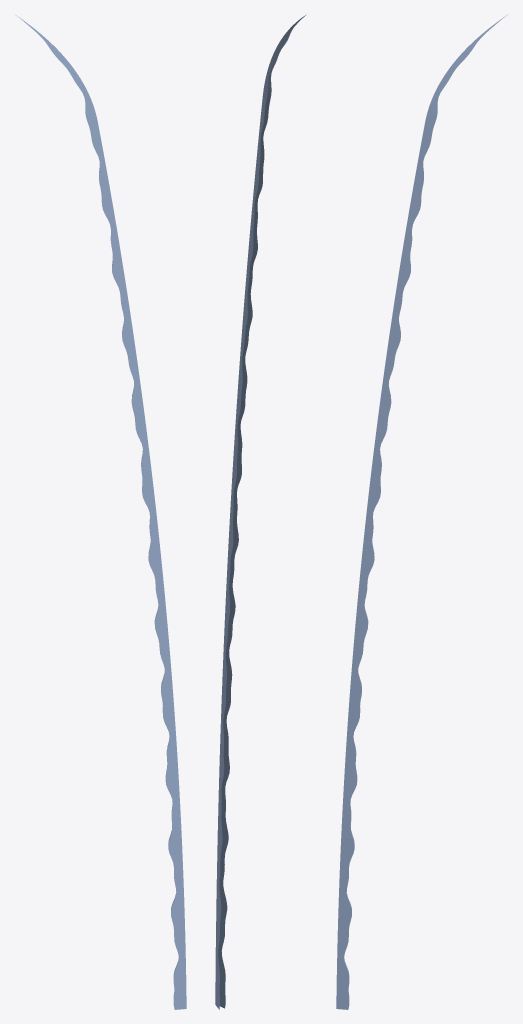
Rendered from Hamon.obj.
3 views of the same model, side by side, from view 1: azimuth 90°, elevation 25°; view 2: azimuth 210°, elevation 25°; view 3: azimuth 270°, elevation 25° (orthographic). The views are drawn at different scales.
Parts seen in each view (by area): view 1: Hamon; view 2: Hamon; view 3: Hamon.
Part boxes in pixels (x1,y1,x2,y2): Hamon: (14,14,186,1009); Hamon: (215,14,306,1009); Hamon: (336,14,508,1009).
Size of the model in its own units: 0.0275 by 4.57 by 0.7182.
